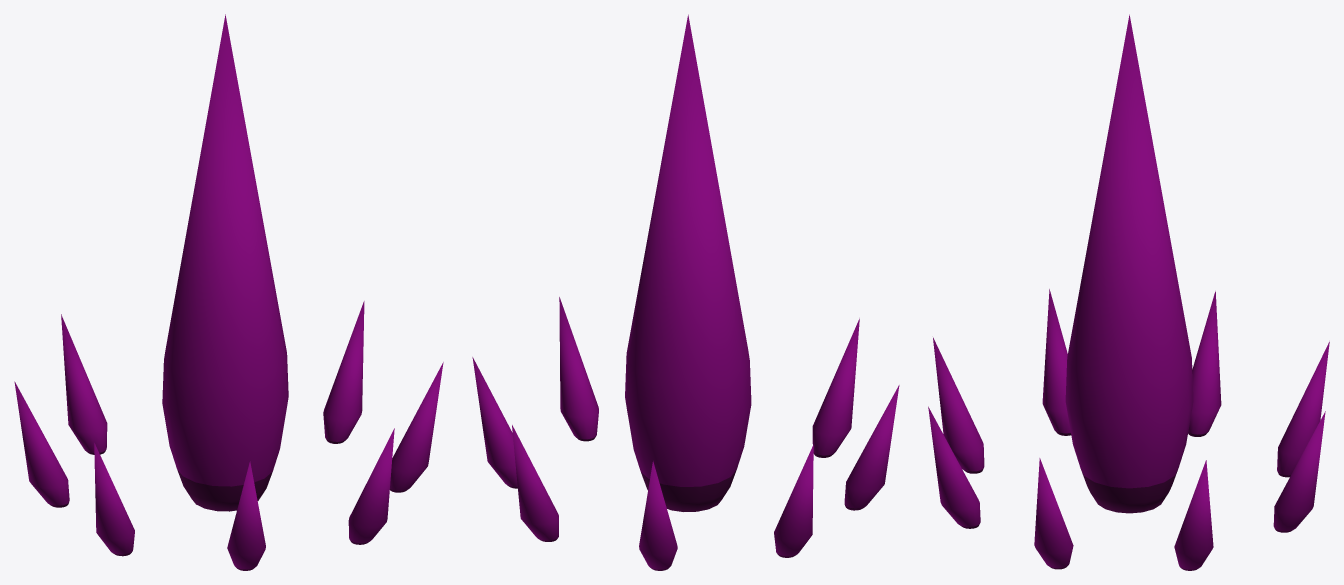
Rendered from Spike.fbx.
3 renders of one model, left to right at view 1: azimuth 30°, elevation 25°; view 2: azimuth 150°, elevation 25°; view 3: azimuth 270°, elevation 25°, orthographic.
Visible parts, largest first — view 1: Cone; view 2: Cone; view 3: Cone.
Boxes of the visible parts, left/top/right/bottom form: Cone: left=14, top=14, right=443, bottom=570; Cone: left=472, top=14, right=899, bottom=570; Cone: left=928, top=14, right=1329, bottom=570.
Size of the model in its own units: 189 by 250 by 188.
